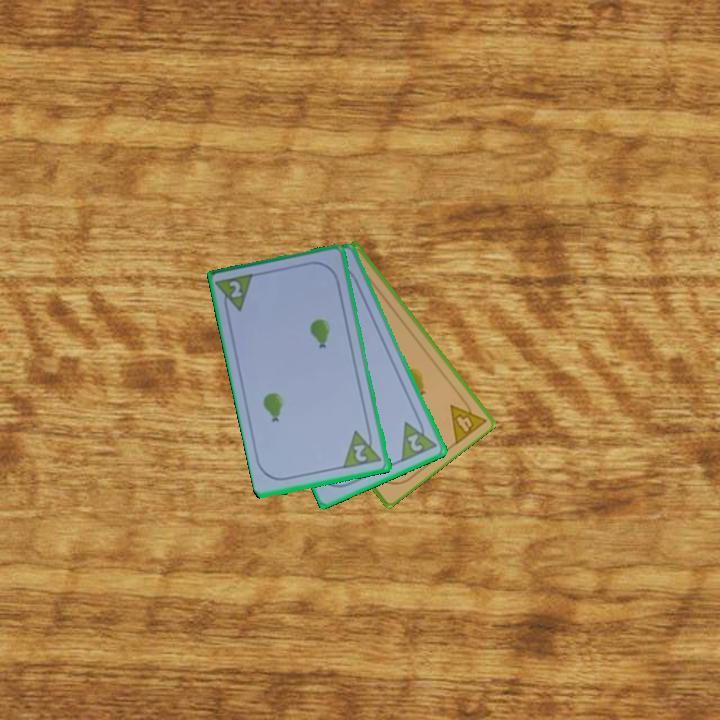2p: (398, 413, 440, 465), (341, 425, 385, 472), (226, 277, 245, 301)
4p: (446, 392, 489, 447)
